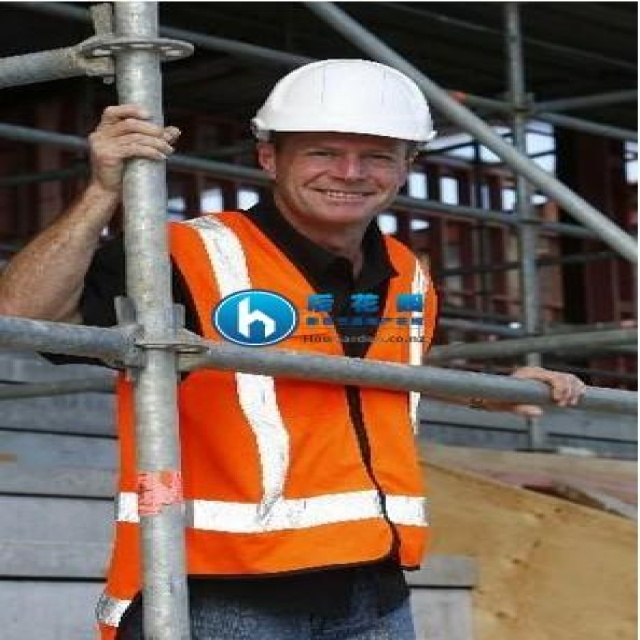Helmet: (236, 47, 443, 245)
Reflective vest: (115, 215, 445, 587)
